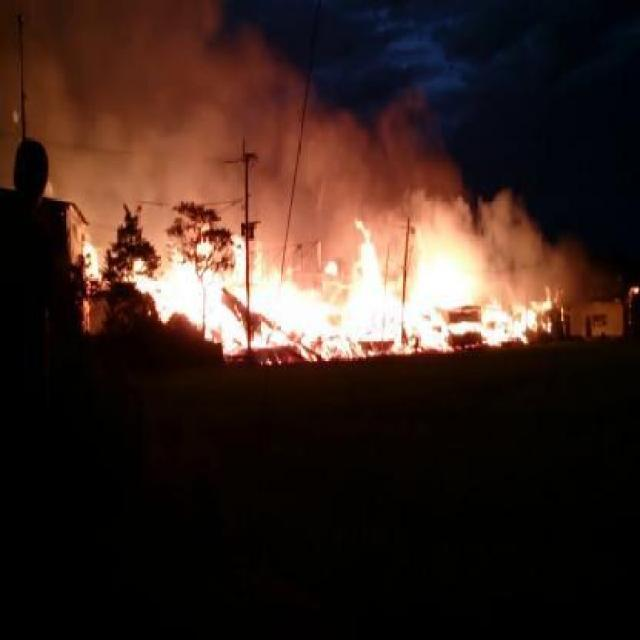Fire: (222, 223, 566, 359), (123, 250, 228, 345), (78, 236, 102, 282), (628, 284, 640, 296)
